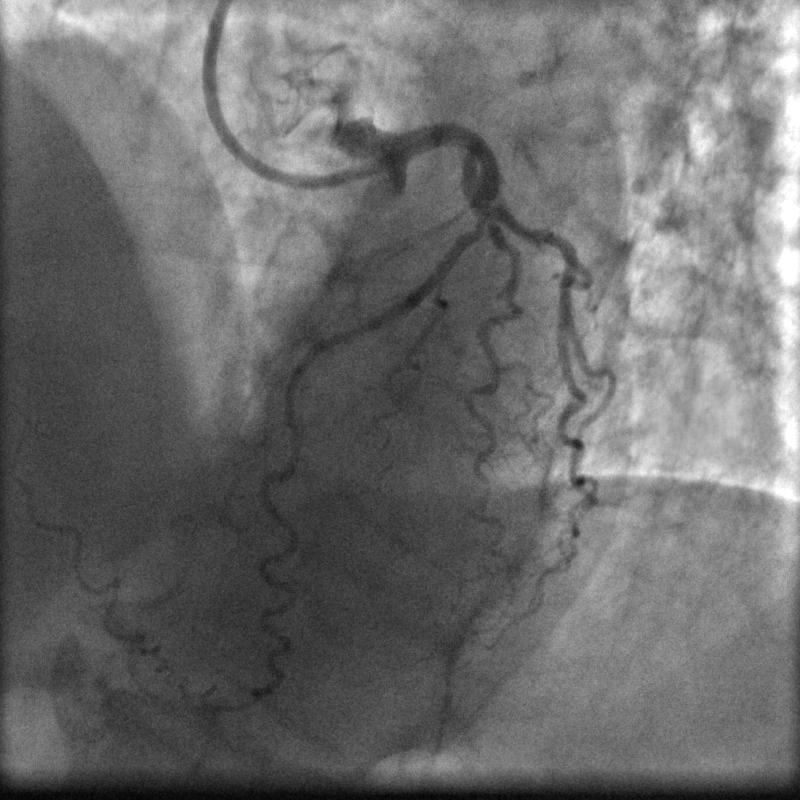Stenosis: (469, 211, 502, 233)
